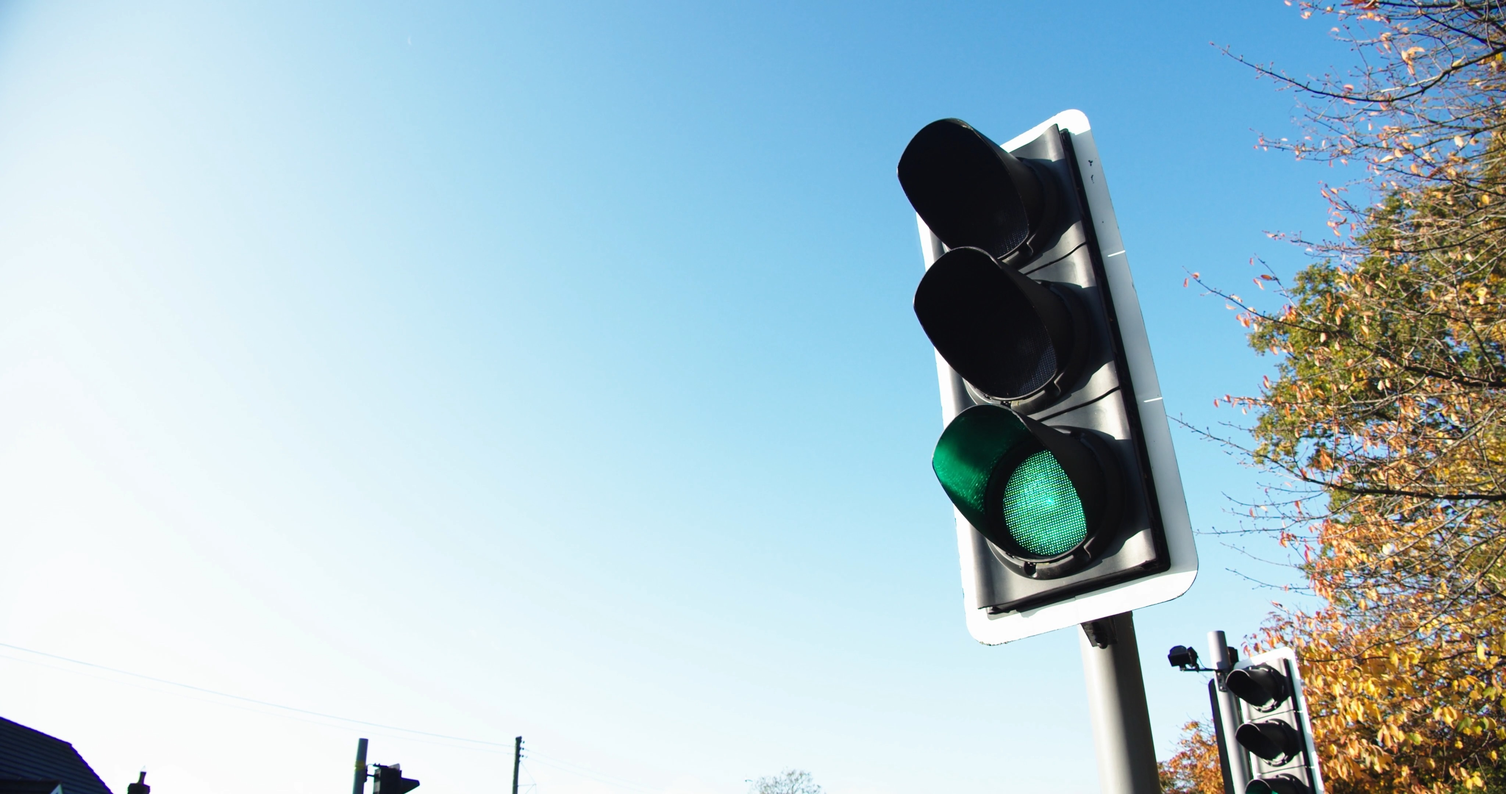green traffic light: (853, 85, 1242, 637)
